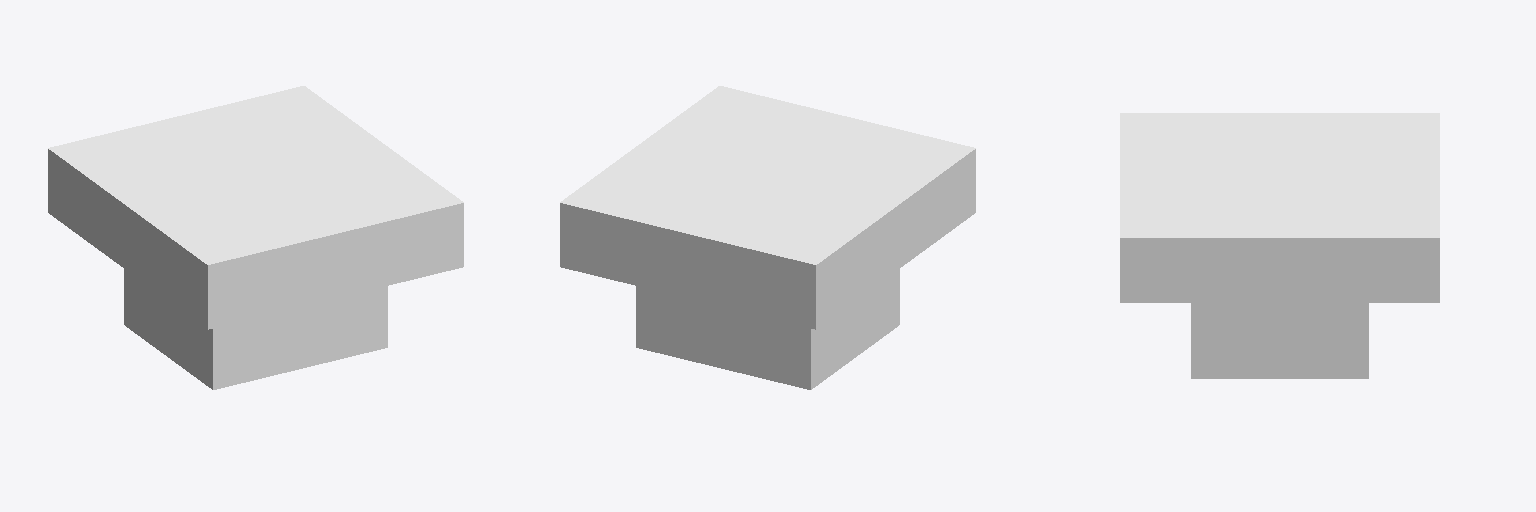
File: Arbol.obj
3 views of the same model, side by side, from view 1: azimuth 30°, elevation 25°; view 2: azimuth 150°, elevation 25°; view 3: azimuth 270°, elevation 25° (orthographic).
Size of the model in its own units: 25 by 15 by 27.